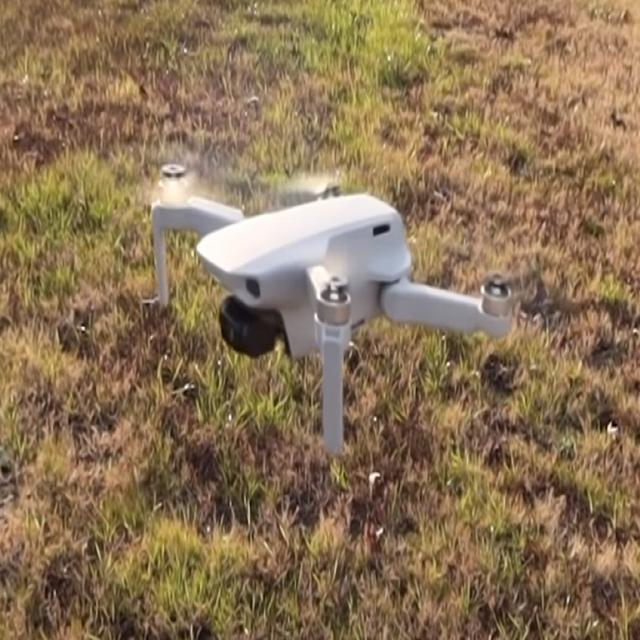drone: (106, 115, 550, 461)
